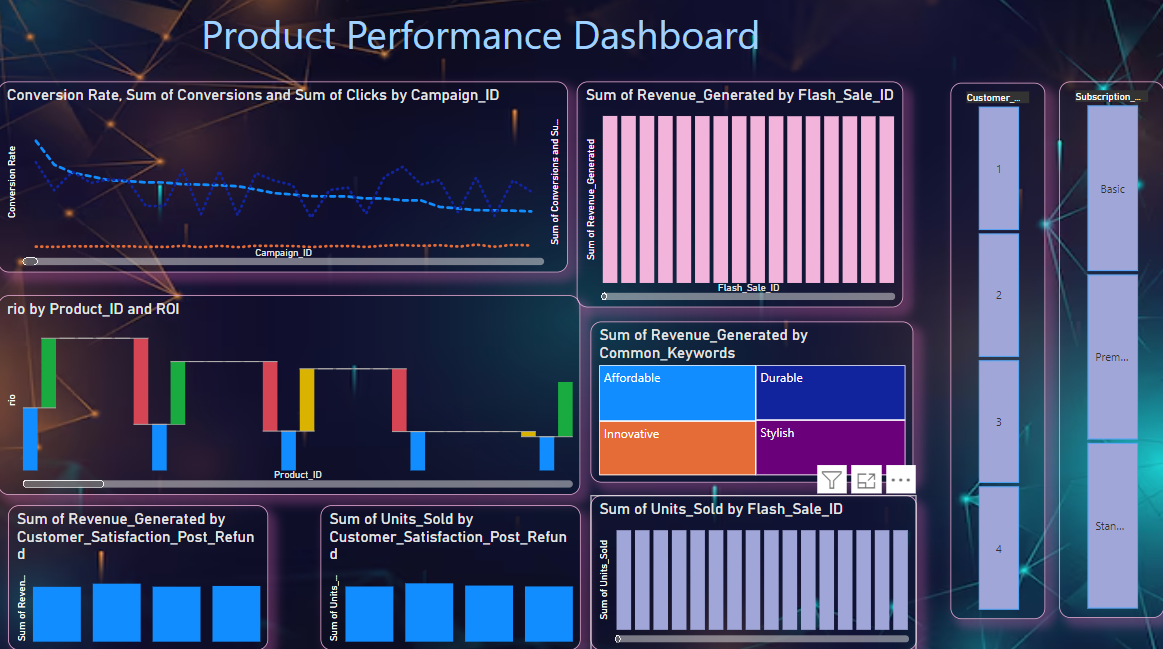

Layout of this report page (visuals, bound fields, positions):
{"tool":"powerbi","page":{"name":"Page 1","canvas":[1280,720],"ordinal":0},"visuals":[{"type":"lineChart","fields":{"Category":["marketing_and_product_performance.Campaign_ID"],"Y":["marketing_and_product_performance.Conversion Rate"],"Y2":["Sum(marketing_and_product_performance.Conversions)","Sum(marketing_and_product_performance.Clicks)"]},"box":[0,96.1,625.7,209.9],"z":0},{"type":"waterfallChart","fields":{"Category":["marketing_and_product_performance.Product_ID"],"Y":["marketing_and_product_performance.rio"],"Breakdown":["marketing_and_product_performance.ROI"]},"box":[0,330.7,639.5,219.6],"z":1000},{"type":"columnChart","fields":{"Y":["Sum(marketing_and_product_performance.Revenue_Generated)"],"Category":["marketing_and_product_performance.Customer_Satisfaction_Post_Refund"]},"box":[11,561.2,285.4,159.2],"z":2000},{"type":"columnChart","fields":{"Category":["marketing_and_product_performance.Customer_Satisfaction_Post_Refund"],"Y":["Sum(marketing_and_product_performance.Units_Sold)"]},"box":[354,561.2,285.4,159.2],"z":3000},{"type":"clusteredColumnChart","fields":{"Category":["marketing_and_product_performance.Flash_Sale_ID"],"Y":["Sum(marketing_and_product_performance.Revenue_Generated)"]},"box":[635.3,96.1,358.1,248.4],"z":4000},{"type":"treemap","fields":{"Group":["marketing_and_product_performance.Common_Keywords"],"Values":["Sum(marketing_and_product_performance.Revenue_Generated)"]},"box":[650.4,359.5,354,177],"z":5000},{"type":"slicer","fields":{"Values":["marketing_and_product_performance.Subscription_Tier"]},"box":[1165,96.1,115.3,588.7],"z":6000},{"type":"clusteredColumnChart","fields":{"Category":["marketing_and_product_performance.Flash_Sale_ID"],"Y":["Sum(marketing_and_product_performance.Units_Sold)"]},"box":[650.4,550.3,358.1,170.2],"z":7000},{"type":"textbox","box":[218.2,9.6,675.1,75.5],"z":8000},{"type":"slicer","fields":{"Values":["marketing_and_product_performance.Customer_Satisfaction_Post_Refund"]},"box":[1045.6,97.4,104.3,588.7],"z":8001}]}

Visuals, with their boxes in screenshot pixels (x1, y1, x2, y2), scaled from the page's 1280x720 canvas onto the 1163x649 screenshot:
lineChart - marketing_and_product_performance.Campaign_ID x marketing_and_product_performance.Conversion Rate: <box>0,87,569,276</box>
waterfallChart - marketing_and_product_performance.Product_ID x marketing_and_product_performance.rio: <box>0,298,581,496</box>
columnChart - Sum(marketing_and_product_performance.Revenue_Generated) x marketing_and_product_performance.Customer_Satisfaction_Post_Refund: <box>10,506,269,648</box>
columnChart - marketing_and_product_performance.Customer_Satisfaction_Post_Refund x Sum(marketing_and_product_performance.Units_Sold): <box>322,506,581,648</box>
clusteredColumnChart - marketing_and_product_performance.Flash_Sale_ID x Sum(marketing_and_product_performance.Revenue_Generated): <box>577,87,903,311</box>
treemap - marketing_and_product_performance.Common_Keywords x Sum(marketing_and_product_performance.Revenue_Generated): <box>591,324,913,484</box>
slicer - marketing_and_product_performance.Subscription_Tier: <box>1059,87,1162,617</box>
clusteredColumnChart - marketing_and_product_performance.Flash_Sale_ID x Sum(marketing_and_product_performance.Units_Sold): <box>591,496,916,648</box>
textbox: <box>198,9,812,77</box>
slicer - marketing_and_product_performance.Customer_Satisfaction_Post_Refund: <box>950,88,1045,618</box>
